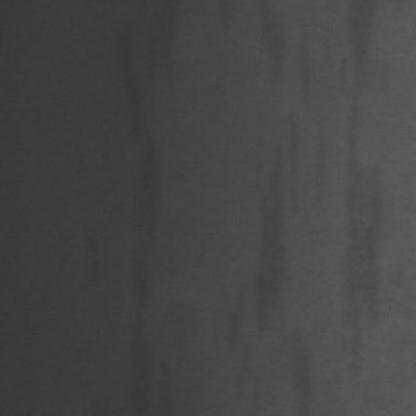inclusion: (108, 19, 181, 414), (242, 122, 318, 408), (335, 16, 393, 374)
